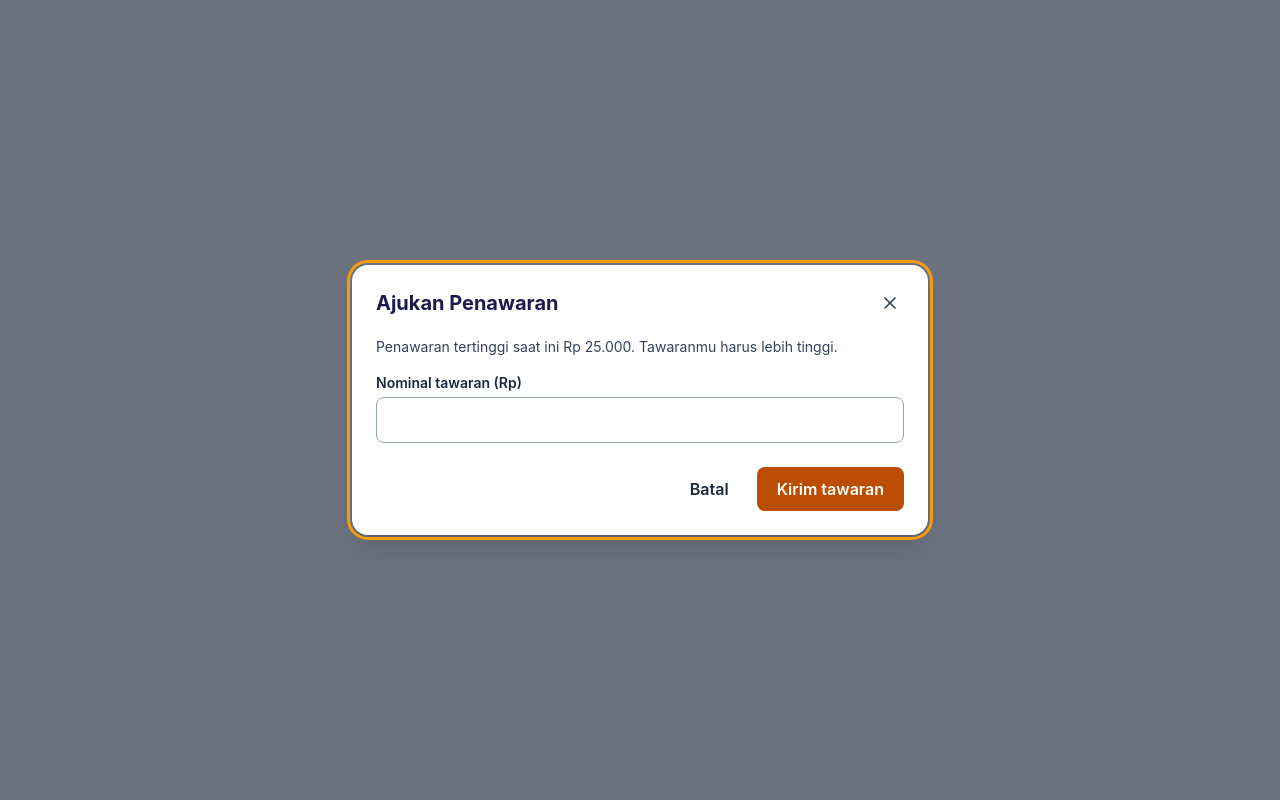
BidModal › menolak tawaran yang tidak lebih tinggi dari tertinggi saat ini
The width and height of the screenshot is (1280, 800).
Type "25000" into the number field with id "bid-amount".
click(640, 420); type("25000")  # box [376,397,904,443]
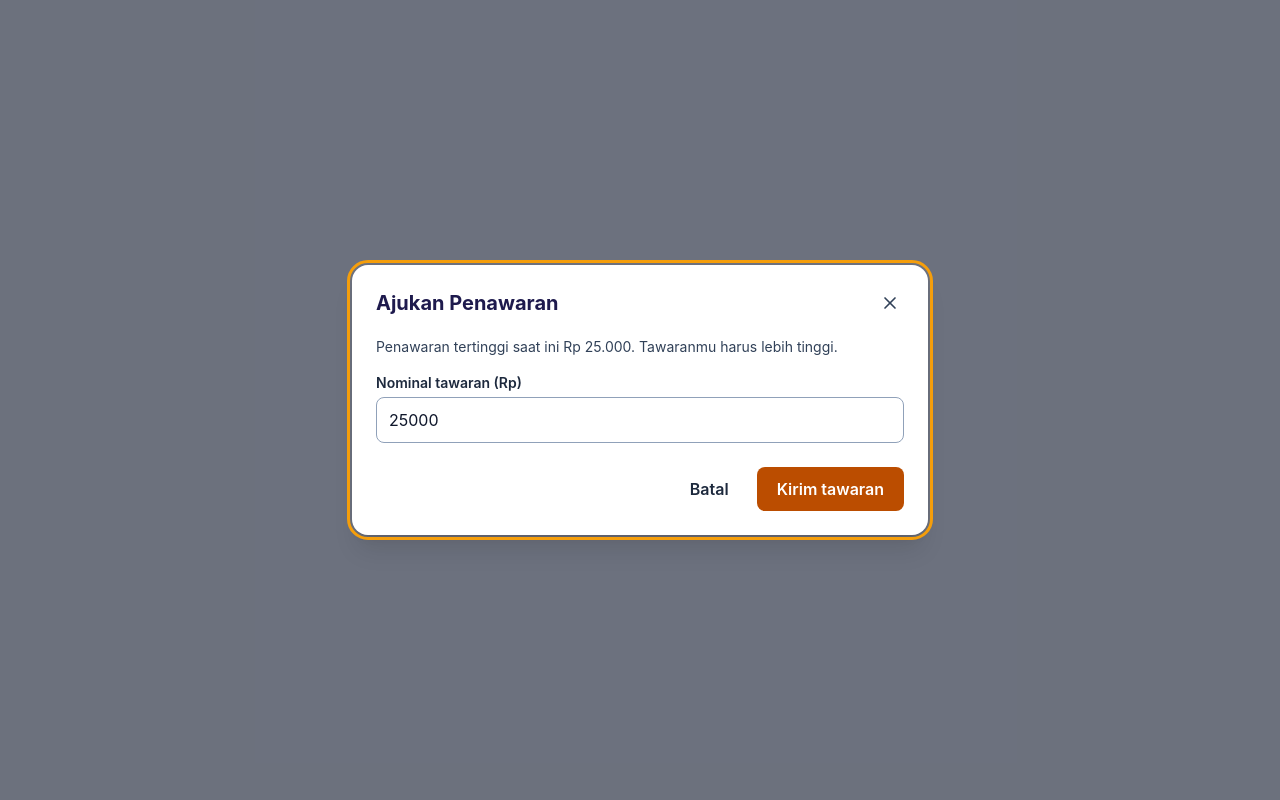
Submit the form, box [376,337,904,511]
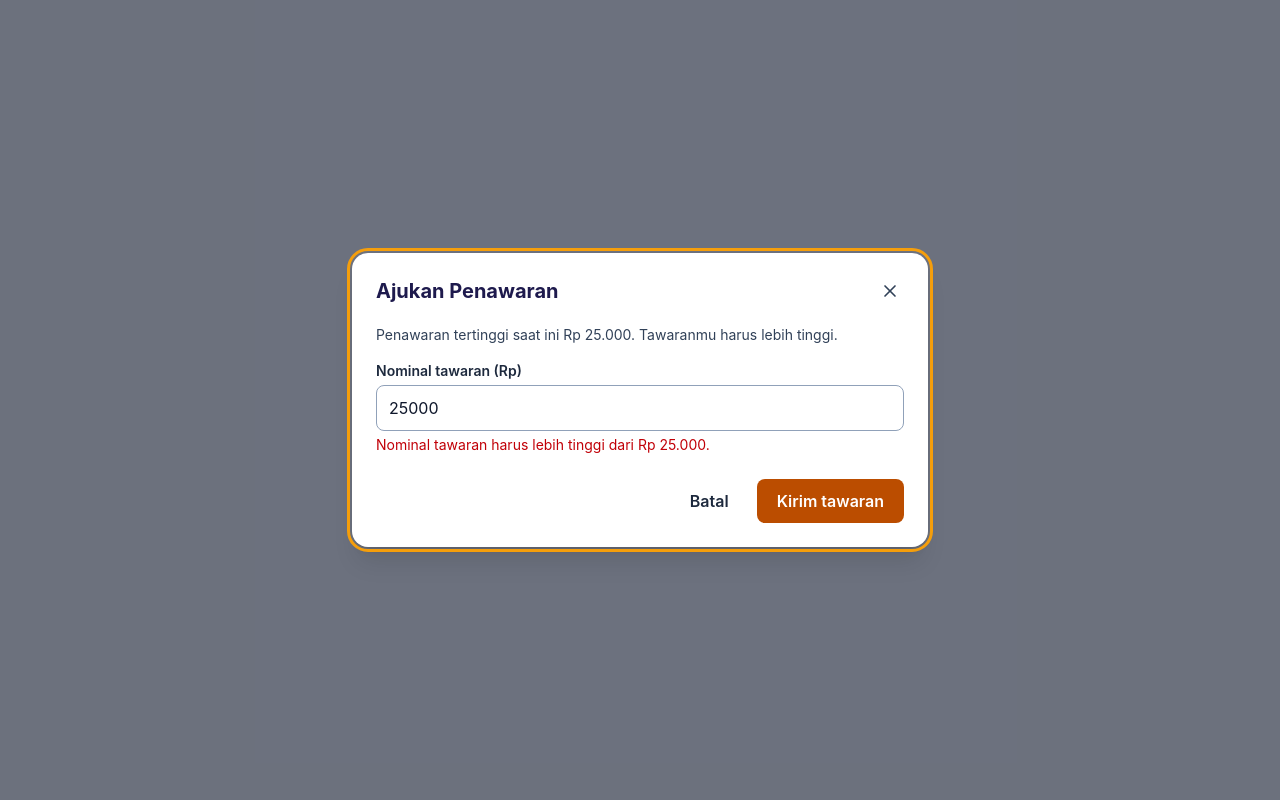
Check: the message "Nominal tawaran harus lebih tinggi dari Rp 25.000." is shown, box [376,436,710,453]
